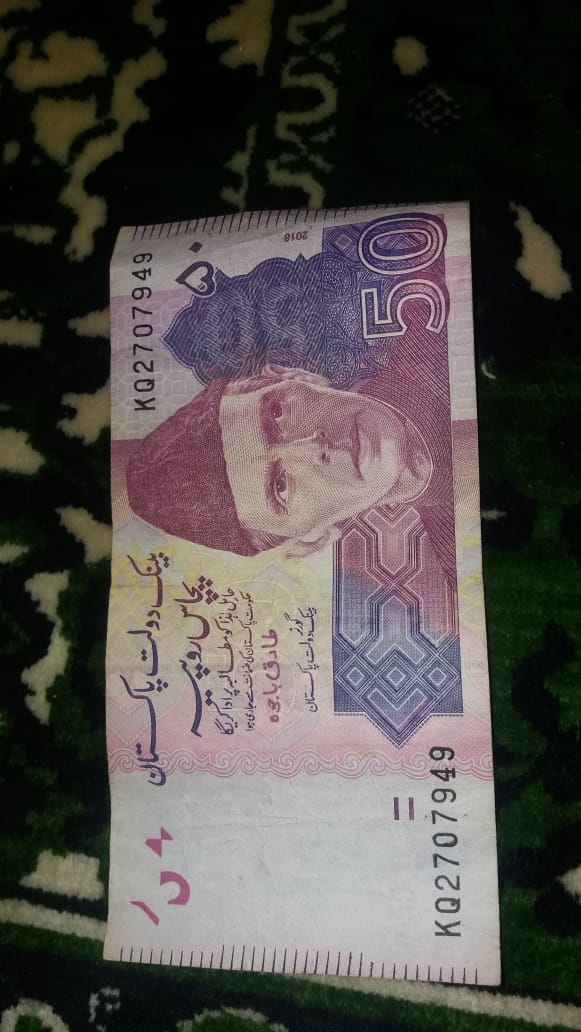50 rupee: (71, 204, 517, 992)
